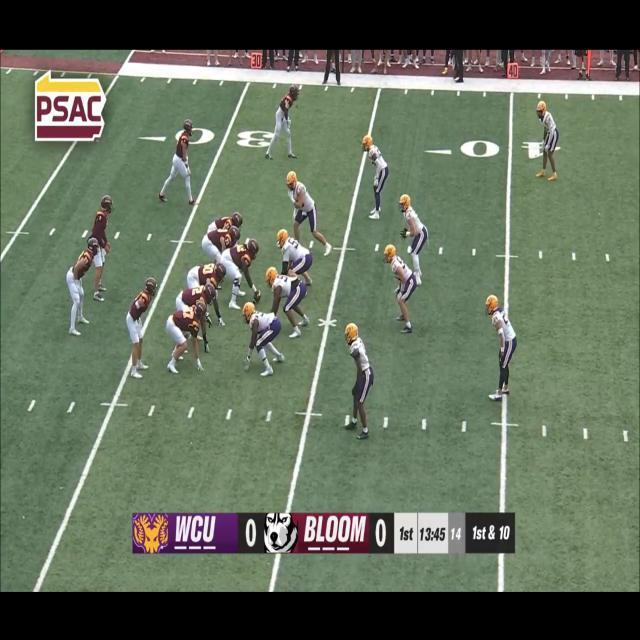football: (249, 288, 264, 306)
